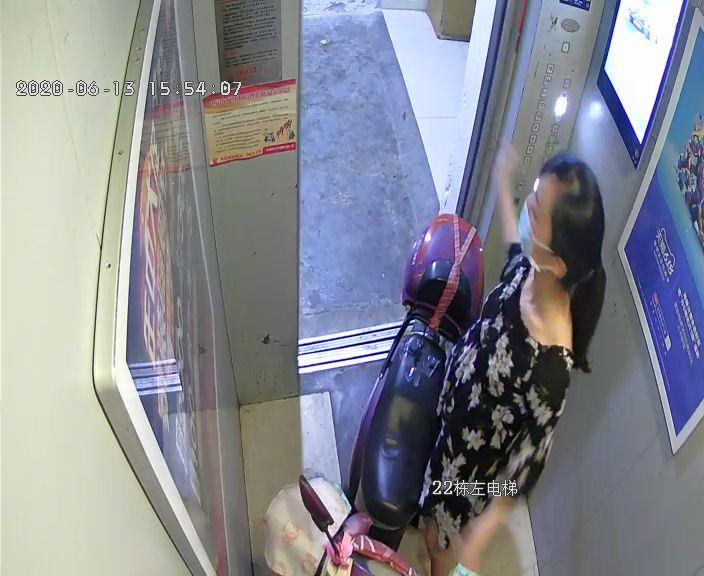Electric-bicycle: (296, 212, 484, 573)
